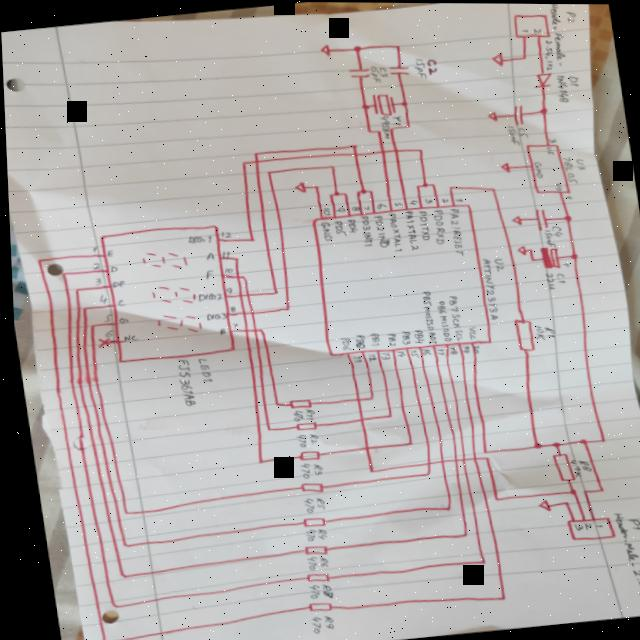capacitor: (535, 244, 566, 269), (508, 102, 525, 125), (530, 206, 547, 229), (346, 66, 370, 80), (385, 63, 410, 76)
crossover: (351, 414, 362, 423), (356, 443, 367, 451), (376, 148, 386, 155), (348, 150, 358, 157), (249, 158, 259, 165), (389, 146, 398, 153), (433, 456, 441, 463), (466, 454, 474, 461), (447, 455, 455, 462), (455, 455, 462, 462), (349, 395, 357, 401), (248, 327, 254, 333), (239, 328, 246, 333), (420, 460, 426, 465), (232, 274, 238, 279), (234, 292, 240, 297), (237, 310, 243, 315), (245, 310, 251, 315), (241, 292, 246, 297)
diode: (530, 70, 553, 88)
ground: (488, 50, 505, 67), (530, 497, 547, 512), (290, 180, 306, 195), (484, 109, 498, 122), (317, 43, 330, 57), (496, 160, 509, 173), (507, 213, 519, 225), (512, 243, 524, 255)
junction: (110, 570, 124, 580), (103, 601, 115, 611), (114, 540, 127, 549), (546, 439, 558, 448), (527, 440, 539, 449), (536, 105, 547, 114), (573, 436, 584, 445), (349, 44, 361, 52), (562, 487, 574, 495), (397, 98, 408, 106), (116, 508, 127, 516), (559, 213, 569, 221), (347, 141, 357, 149), (358, 102, 368, 110), (262, 168, 271, 176), (591, 485, 601, 492), (518, 53, 527, 60), (268, 400, 277, 407), (594, 435, 603, 442), (486, 495, 495, 502), (392, 42, 401, 49), (260, 425, 269, 432), (472, 557, 481, 564), (237, 159, 246, 166), (245, 235, 254, 242), (455, 531, 464, 538), (414, 146, 423, 153), (492, 593, 501, 600), (249, 149, 258, 156), (486, 185, 495, 192), (325, 163, 334, 170), (400, 439, 409, 446), (402, 122, 411, 129), (69, 286, 78, 293), (556, 498, 565, 505), (31, 257, 40, 264), (566, 252, 575, 259), (439, 504, 447, 511), (418, 180, 426, 187), (357, 187, 365, 194), (330, 189, 337, 196), (251, 457, 259, 463), (362, 467, 370, 473), (445, 184, 452, 190), (419, 470, 426, 476), (477, 448, 484, 454), (386, 125, 393, 131), (311, 183, 317, 189), (576, 488, 583, 493), (364, 188, 371, 193), (526, 256, 533, 261), (382, 412, 388, 417), (363, 395, 369, 400), (269, 290, 275, 295), (86, 323, 92, 328), (78, 305, 84, 310), (364, 128, 370, 133), (479, 455, 485, 460), (427, 181, 433, 186), (411, 183, 417, 188), (339, 190, 345, 195), (352, 189, 358, 194), (324, 192, 330, 197), (281, 306, 287, 311), (230, 255, 236, 260), (57, 271, 63, 276), (524, 247, 530, 252), (374, 129, 380, 134), (255, 327, 260, 332), (239, 274, 244, 279), (92, 638, 101, 640)
resistor: (508, 316, 533, 352), (546, 451, 571, 481), (295, 515, 320, 529), (299, 570, 325, 583), (297, 543, 322, 556), (294, 480, 319, 493), (283, 397, 309, 409), (301, 600, 326, 612), (293, 448, 316, 461), (290, 420, 313, 431)
terminal: (559, 514, 611, 541), (510, 10, 550, 40)
text: (607, 509, 640, 614), (169, 355, 193, 408), (546, 3, 566, 65), (477, 256, 496, 319), (415, 288, 435, 345), (443, 208, 463, 256), (442, 295, 462, 341), (430, 297, 449, 343), (398, 208, 417, 249), (384, 210, 402, 251), (427, 207, 446, 244), (368, 213, 388, 248), (355, 215, 372, 248), (414, 208, 430, 242), (192, 356, 211, 383), (559, 155, 576, 184), (552, 73, 568, 102), (183, 290, 218, 303), (541, 38, 555, 70), (183, 233, 211, 246), (411, 56, 426, 78), (377, 114, 390, 139), (316, 220, 331, 241), (504, 124, 518, 145), (303, 615, 318, 634), (329, 218, 344, 237), (342, 216, 357, 235), (423, 57, 438, 76), (367, 64, 380, 84), (540, 227, 553, 247), (394, 329, 409, 346), (461, 323, 476, 340), (296, 496, 311, 513), (540, 271, 553, 290), (564, 458, 577, 477), (301, 583, 316, 599), (294, 462, 308, 479), (349, 333, 363, 349), (571, 457, 587, 471), (314, 582, 328, 598), (408, 328, 421, 345), (530, 160, 543, 177), (529, 323, 542, 340), (201, 311, 222, 321), (299, 555, 313, 570), (298, 527, 312, 541), (563, 9, 577, 23), (336, 335, 349, 350), (381, 332, 394, 347), (489, 256, 502, 271), (365, 332, 378, 347), (291, 433, 304, 448), (621, 516, 636, 529), (316, 614, 328, 629), (309, 495, 321, 510), (118, 332, 135, 342), (306, 462, 319, 475), (287, 409, 300, 422), (539, 324, 552, 337), (565, 73, 578, 86), (388, 114, 401, 126), (310, 527, 322, 540), (548, 224, 560, 237), (515, 125, 526, 139), (300, 408, 312, 420), (551, 271, 563, 283), (572, 157, 583, 170), (200, 268, 213, 279), (312, 554, 323, 567), (303, 432, 314, 445), (107, 279, 122, 288), (201, 251, 213, 262), (376, 65, 387, 77), (95, 292, 105, 305), (112, 315, 126, 324), (217, 229, 230, 238), (389, 199, 402, 208), (372, 201, 385, 210), (88, 261, 99, 271), (212, 326, 224, 335), (455, 344, 467, 353), (98, 313, 110, 322), (220, 265, 231, 274), (220, 285, 231, 294), (420, 196, 431, 205), (437, 195, 448, 204), (101, 249, 112, 258), (542, 145, 553, 154), (105, 264, 116, 273), (417, 347, 428, 356), (375, 351, 386, 360), (405, 348, 414, 359), (363, 353, 374, 362), (568, 521, 579, 530), (99, 329, 110, 338), (444, 345, 454, 354), (218, 249, 228, 258), (391, 349, 402, 357), (332, 206, 344, 213), (404, 198, 416, 205), (347, 355, 359, 362), (320, 206, 329, 215), (431, 346, 440, 355), (578, 521, 587, 530), (90, 277, 99, 286), (551, 181, 561, 189), (531, 26, 541, 34), (347, 204, 356, 212), (468, 344, 476, 353), (113, 298, 122, 306), (562, 193, 571, 200), (545, 136, 554, 143), (359, 203, 368, 210), (228, 322, 236, 329), (88, 245, 95, 253), (588, 522, 598, 527), (451, 197, 461, 202), (225, 305, 232, 312), (520, 27, 528, 32)
